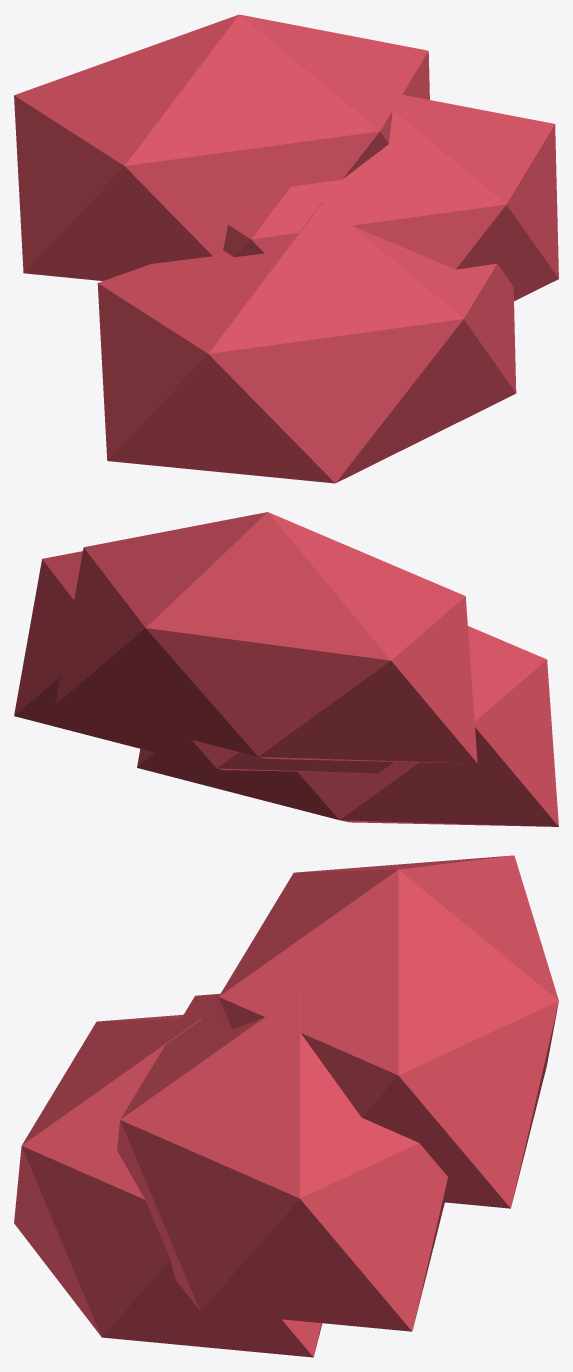
Rendered from item_069_apple_m.glb.
The picture shows the model from 3 angles, top to bottom: view 1: azimuth 30°, elevation 25°; view 2: azimuth 150°, elevation 25°; view 3: azimuth 270°, elevation 25°; orthographic projection. The views are drawn at different scales.
Visible parts, largest first — view 1: item_069_apple_m; view 2: item_069_apple_m; view 3: item_069_apple_m.
Part boxes in pixels (x1=…): item_069_apple_m: x1=14, y1=14, x2=558, y2=483; item_069_apple_m: x1=14, y1=512, x2=558, y2=826; item_069_apple_m: x1=14, y1=855, x2=558, y2=1357.
Bounding box in the file's own units: 0.4054 × 0.301 × 0.3317.
